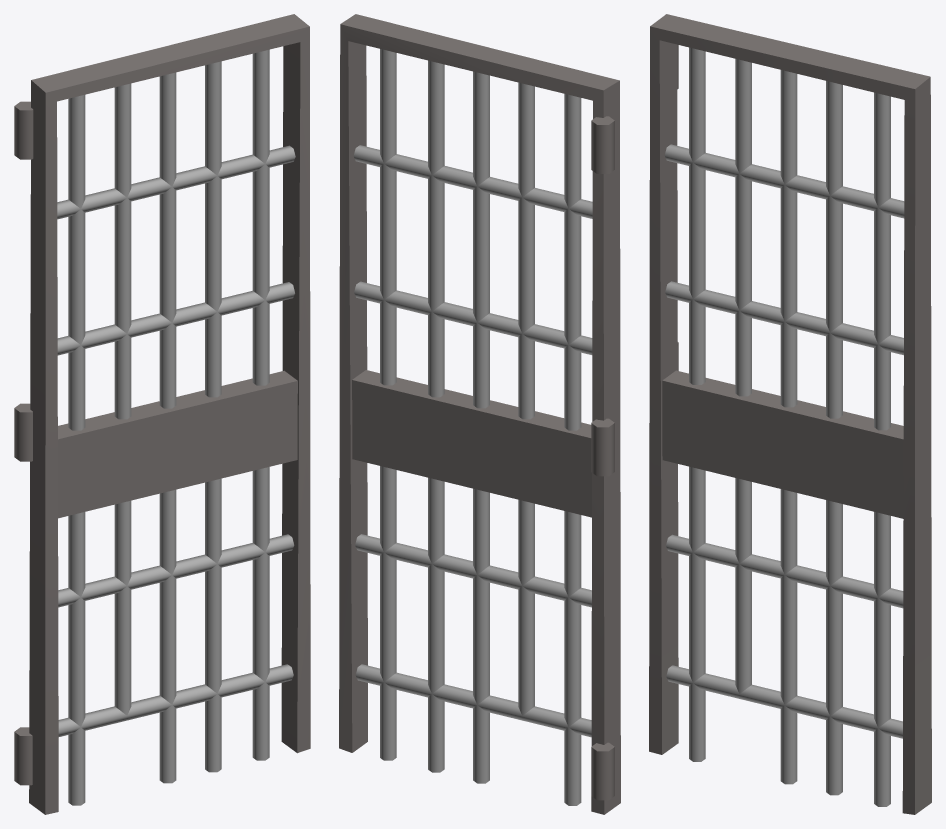
Rendered from SM_Door_A1.FBX.
3 renders of one model, left to right at view 1: azimuth 30°, elevation 25°; view 2: azimuth 150°, elevation 25°; view 3: azimuth 330°, elevation 25°, orthographic.
Visible parts, largest first — view 1: SM_Door_A1; view 2: SM_Door_A1; view 3: SM_Door_A1.
Boxes of the visible parts, box(x1,y1,x2,y2) form: SM_Door_A1: box(14, 14, 310, 814); SM_Door_A1: box(339, 14, 620, 814); SM_Door_A1: box(649, 14, 931, 814).
Size of the model in its own units: 115 by 18.2 by 292.
